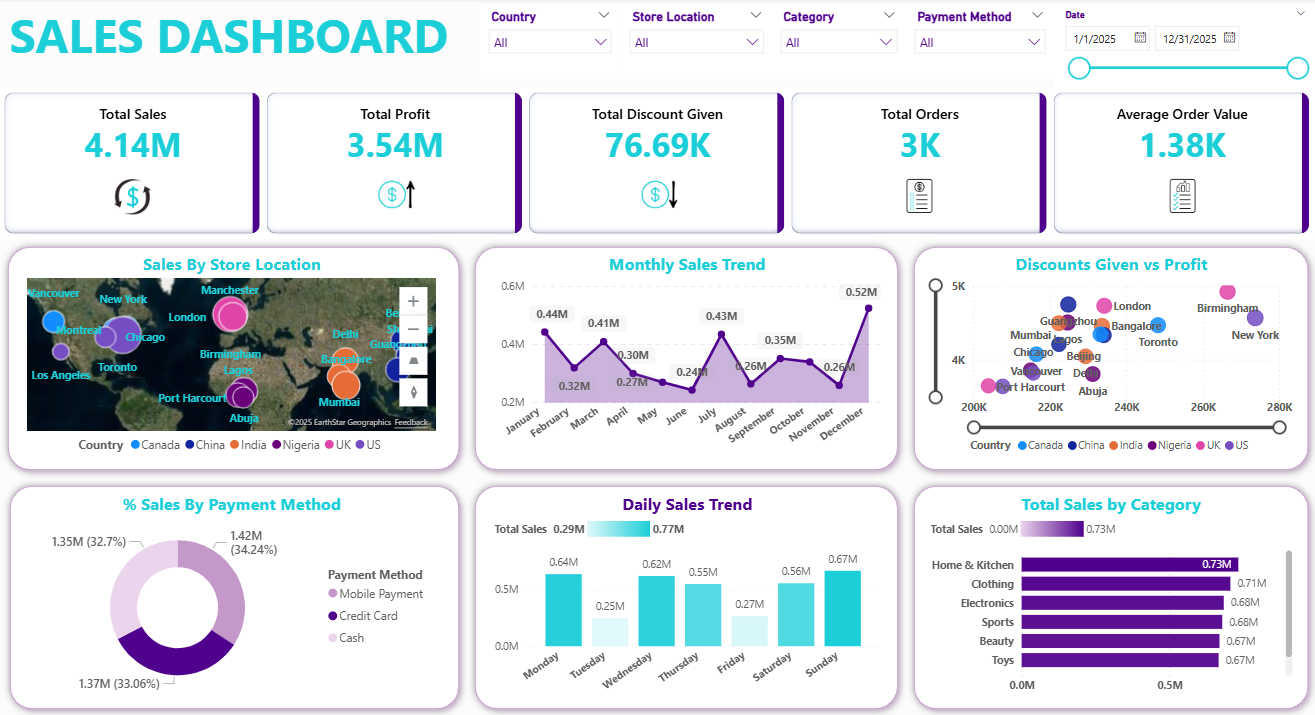

The dashboard page shown, as its layout file describes it:
{"tool":"powerbi","page":{"name":"Page 1","canvas":[1500,820],"ordinal":0},"visuals":[{"type":"cardVisual","fields":{"Data":["public Sales Data.Total Sales","public Sales Data.Total Profit","public Sales Data.Total Discount Given","public Sales Data.Total Orders","public Sales Data.Average Order Value"]},"box":[0,102.5,1500,172.5],"z":0},{"type":"textbox","box":[0,0,521.2,92.5],"z":1000},{"type":"slicer","fields":{"Values":["public Sales Data.Country"]},"box":[547.5,7.5,160,85],"z":2000},{"type":"slicer","fields":{"Values":["public Sales Data.Store Location"]},"box":[707.5,7.5,172.5,85],"z":3000},{"type":"slicer","fields":{"Values":["public Sales Data.Category"]},"box":[880,7.5,152.5,85],"z":4000},{"type":"slicer","fields":{"Values":["public Sales Data.Payment Method"]},"box":[1032.5,7.5,168.8,85],"z":5000},{"type":"slicer","fields":{"Values":["public Sales Data.Date"]},"box":[1201.2,7.5,298.8,95],"z":6000},{"type":"shape","box":[0,275,532.5,272.5],"z":7000},{"type":"azureMap","title":"Sales By Store Location","fields":{"Size":["public Sales Data.Total Sales"],"Category":["public Sales Data.Store Location"],"Series":["public Sales Data.Country"]},"box":[26.2,290,476.2,238.8],"z":8000},{"type":"shape","box":[532.5,275,500,272.5],"z":9000},{"type":"areaChart","title":"Monthly Sales Trend","fields":{"Category":["public Sales Data.Month Name"],"Y":["public Sales Data.Total Sales"]},"box":[558.8,290,450,238.8],"z":10000},{"type":"shape","box":[532.5,547.5,500,272.5],"z":11000},{"type":"columnChart","title":"Daily Sales Trend","fields":{"Category":["public Sales Data.Day Name"],"Y":["public Sales Data.Total Profit"]},"box":[558.8,562.5,450,238.8],"z":12000},{"type":"shape","box":[2.5,547.5,530,272.5],"z":13000},{"type":"donutChart","title":"% Sales By Payment Method","fields":{"Category":["public Sales Data.Payment Method"],"Y":["public Sales Data.Total Sales"]},"box":[26.2,562.5,476.2,238.8],"z":14000},{"type":"shape","box":[1032.5,275,467.5,272.5],"z":15000},{"type":"scatterChart","title":"Discounts Given vs Profit","fields":{"X":["public Sales Data.Total Sales"],"Y":["public Sales Data.Total Discounts Given"],"Category":["public Sales Data.Store Location"],"Series":["public Sales Data.Country"],"Size":["public Sales Data.Total Orders"]},"box":[1055,290,422.5,238.8],"z":16000},{"type":"shape","box":[1032.5,547.5,467.5,272.5],"z":17000},{"type":"barChart","fields":{"Category":["public Sales Data.Category"],"Y":["public Sales Data.Total Sales"]},"box":[1055,562.5,422.5,238.8],"z":18000}]}

Visuals, with their boxes in screenshot pixels (x1, y1, x2, y2), scaled from the page's 1500x820 canvas onto the 1315x715 screenshot:
cardVisual - public Sales Data.Total Sales x public Sales Data.Total Profit: 0/89/1314/240
textbox: 0/0/457/81
slicer - public Sales Data.Country: 480/7/620/81
slicer - public Sales Data.Store Location: 620/7/771/81
slicer - public Sales Data.Category: 771/7/905/81
slicer - public Sales Data.Payment Method: 905/7/1053/81
slicer - public Sales Data.Date: 1053/7/1314/89
shape: 0/240/467/477
"Sales By Store Location" azureMap: 23/253/440/461
shape: 467/240/905/477
"Monthly Sales Trend" areaChart: 490/253/884/461
shape: 467/477/905/714
"Daily Sales Trend" columnChart: 490/490/884/699
shape: 2/477/467/714
"% Sales By Payment Method" donutChart: 23/490/440/699
shape: 905/240/1314/477
"Discounts Given vs Profit" scatterChart: 925/253/1295/461
shape: 905/477/1314/714
barChart - public Sales Data.Category x public Sales Data.Total Sales: 925/490/1295/699
